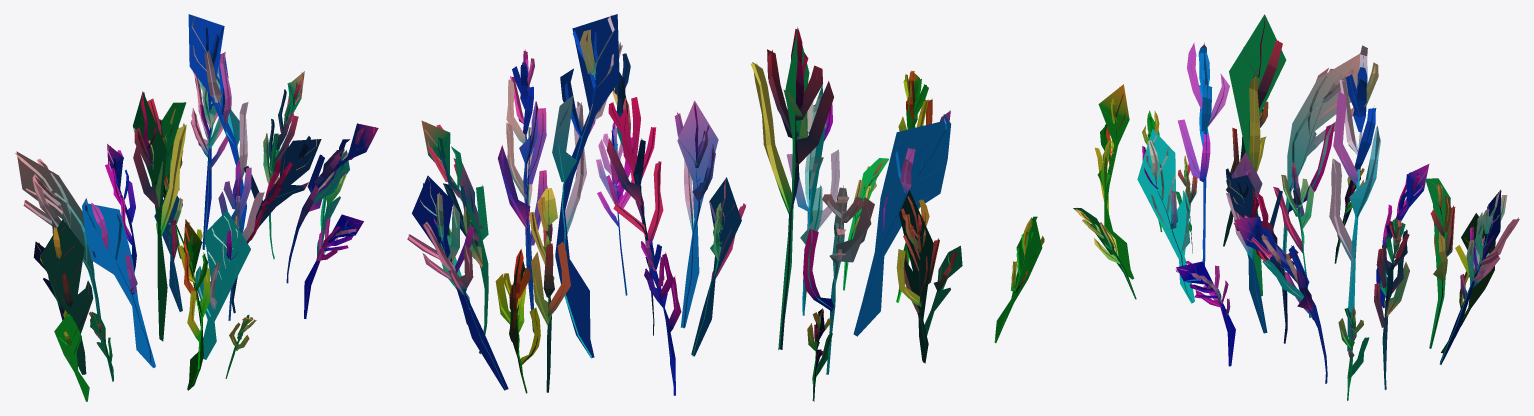
The model's file is Nordic_Coastal_Groundcover_vlqkdeaja_Mid_vlqkdeaja_VarH_LOD0.fbx.
3 views of the same model, side by side, from view 1: azimuth 30°, elevation 25°; view 2: azimuth 150°, elevation 25°; view 3: azimuth 270°, elevation 25° (orthographic). The views are drawn at different scales.
Visible parts, largest first — view 1: _b7ec_VarH_LOD1; view 2: _b7ec_VarH_LOD1; view 3: _b7ec_VarH_LOD1.
Boxes of the visible parts, bbox=[...] form: _b7ec_VarH_LOD1: bbox=[15, 14, 378, 401]; _b7ec_VarH_LOD1: bbox=[407, 14, 1044, 401]; _b7ec_VarH_LOD1: bbox=[1073, 14, 1519, 400].
Size of the model in its own units: 130 by 89.54 by 121.
